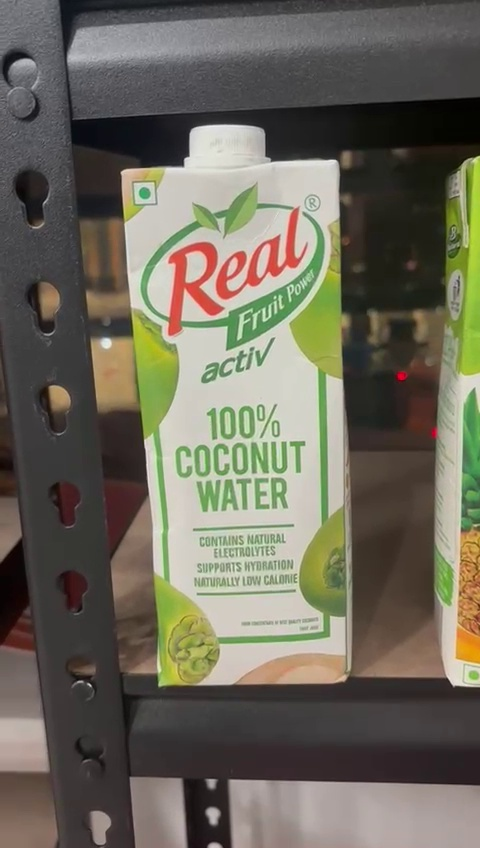Coconut water: (138, 122, 355, 695)
